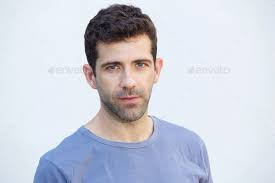white_male: (95, 26, 158, 118)
